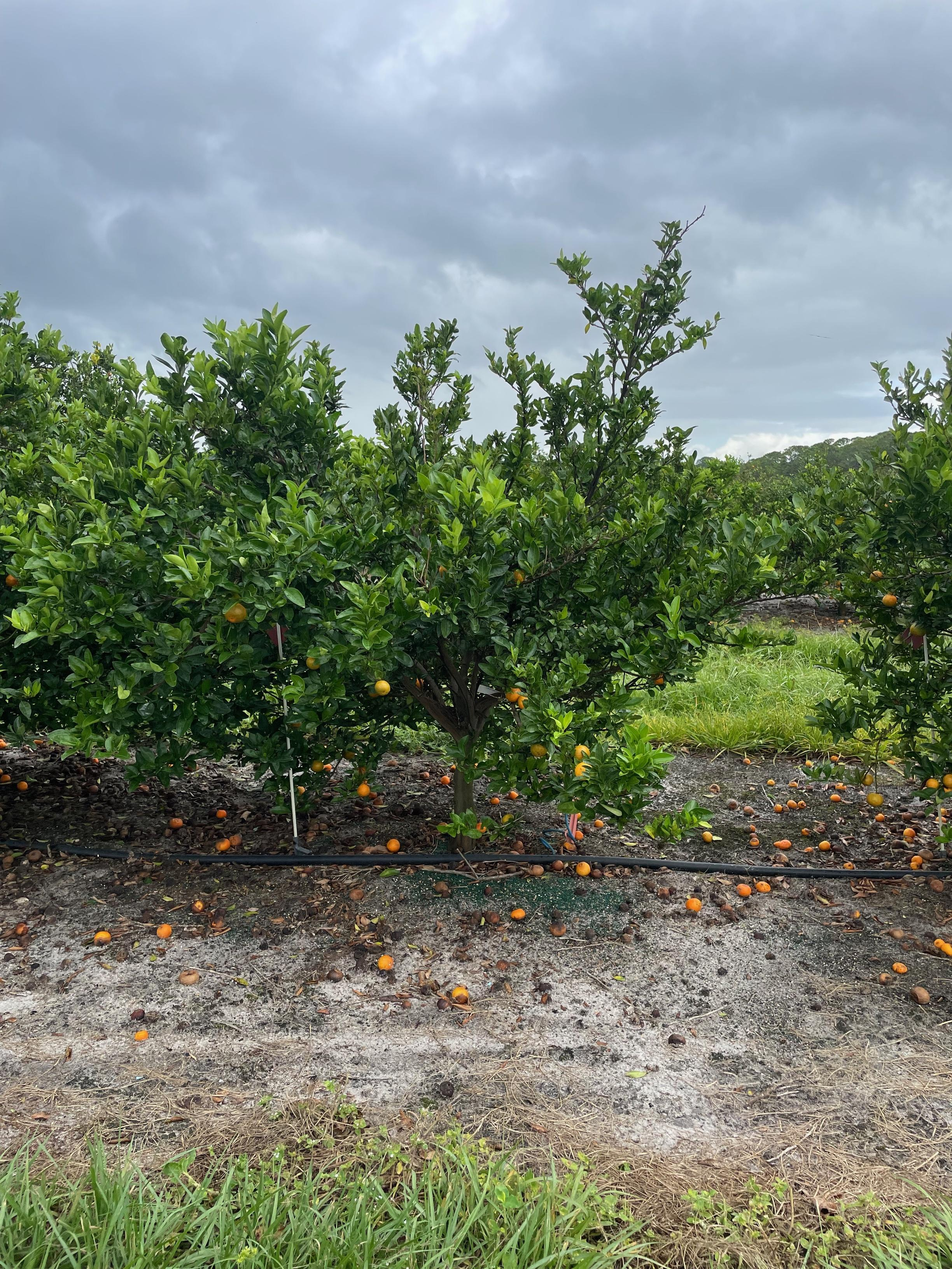fruit_on_ground: (221, 599, 249, 625), (574, 761, 594, 781), (504, 685, 524, 704), (571, 744, 592, 762), (373, 678, 392, 697), (528, 740, 548, 758), (865, 790, 884, 808), (908, 621, 928, 638), (3, 571, 21, 589), (304, 654, 323, 671), (880, 592, 899, 608), (516, 693, 532, 710), (309, 757, 325, 774), (859, 772, 875, 787), (924, 776, 940, 791), (651, 671, 666, 686), (410, 676, 425, 691), (356, 783, 371, 798), (500, 812, 516, 826), (869, 570, 884, 583), (940, 773, 952, 789), (342, 748, 356, 761), (319, 761, 332, 775), (294, 783, 307, 796)
fruit_on_tree: (908, 985, 932, 1005), (177, 967, 200, 985), (450, 984, 470, 1004), (376, 953, 395, 971), (93, 928, 112, 945), (432, 879, 451, 895), (548, 920, 567, 936), (155, 922, 172, 939), (348, 886, 366, 902), (734, 881, 752, 897), (685, 897, 703, 913), (13, 920, 30, 936), (385, 836, 402, 852), (575, 860, 592, 876), (327, 967, 345, 982), (434, 996, 450, 1011), (133, 1027, 149, 1042), (510, 906, 526, 921), (929, 879, 946, 893), (214, 837, 231, 851), (891, 960, 908, 974), (191, 898, 206, 913), (887, 925, 903, 939), (483, 910, 499, 924), (130, 1007, 146, 1021), (26, 848, 42, 862), (168, 815, 184, 829), (528, 863, 544, 877), (754, 880, 771, 893), (228, 833, 243, 847), (700, 829, 715, 843), (939, 942, 952, 958), (876, 971, 891, 984), (917, 848, 933, 860), (902, 826, 916, 839), (656, 887, 671, 899), (910, 853, 924, 865), (136, 781, 150, 793), (589, 867, 603, 879), (511, 839, 525, 851), (775, 838, 790, 849), (87, 782, 100, 794), (551, 858, 564, 870), (593, 817, 606, 829), (0, 771, 12, 784), (16, 779, 29, 791), (818, 839, 831, 851), (32, 735, 46, 746), (719, 902, 733, 913), (938, 806, 950, 818), (573, 829, 585, 841), (908, 860, 920, 872), (162, 826, 175, 837), (708, 782, 721, 793), (215, 807, 228, 818), (933, 938, 946, 949), (90, 756, 102, 767), (901, 811, 913, 822), (372, 796, 384, 807), (873, 811, 885, 822), (507, 789, 519, 800), (748, 836, 761, 846), (851, 908, 862, 919), (418, 770, 430, 780), (843, 859, 855, 869), (440, 774, 452, 784), (726, 799, 738, 809), (829, 753, 840, 763), (773, 803, 784, 813), (746, 822, 757, 832), (786, 800, 797, 810), (836, 780, 847, 790), (490, 795, 501, 805), (829, 793, 841, 802), (804, 759, 814, 769), (744, 805, 754, 815), (804, 783, 815, 792), (448, 762, 459, 771), (797, 799, 808, 808), (766, 778, 776, 787), (803, 846, 814, 854), (800, 828, 811, 836), (789, 779, 798, 788), (742, 757, 752, 765), (0, 740, 8, 750)
